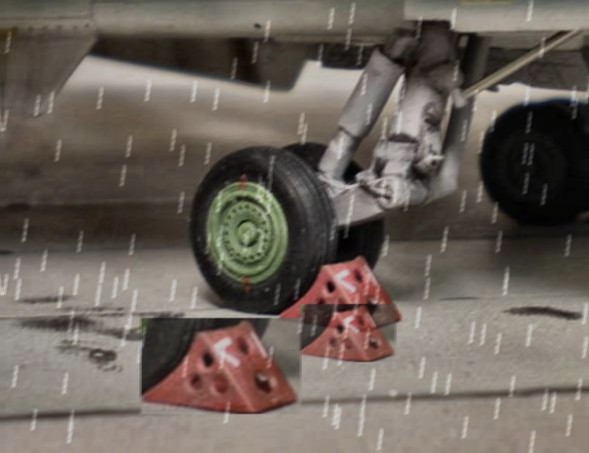chock: (139, 319, 299, 415), (275, 255, 401, 332), (298, 305, 394, 363)
wheel: (185, 146, 335, 316), (476, 100, 585, 231)
